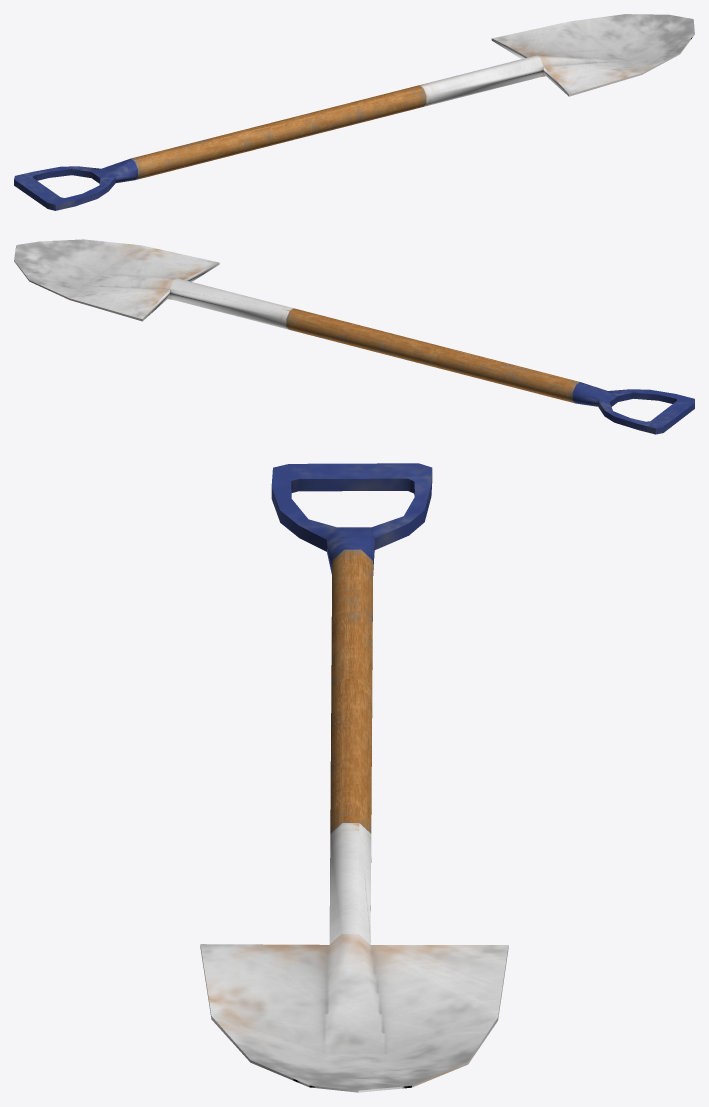
The model's file is shovel.fbx.
The picture shows the model from 3 angles, top to bottom: view 1: azimuth 30°, elevation 25°; view 2: azimuth 150°, elevation 25°; view 3: azimuth 270°, elevation 25°; orthographic projection. The views are drawn at different scales.
Visible parts, largest first — view 1: shovel; view 2: shovel; view 3: shovel.
Part boxes in pixels (x1,y1,x2,y2): shovel: (14,14,694,210); shovel: (14,239,694,434); shovel: (200,463,508,1092).
Bounding box in the file's own units: 1.45 × 0.049 × 0.2928.
